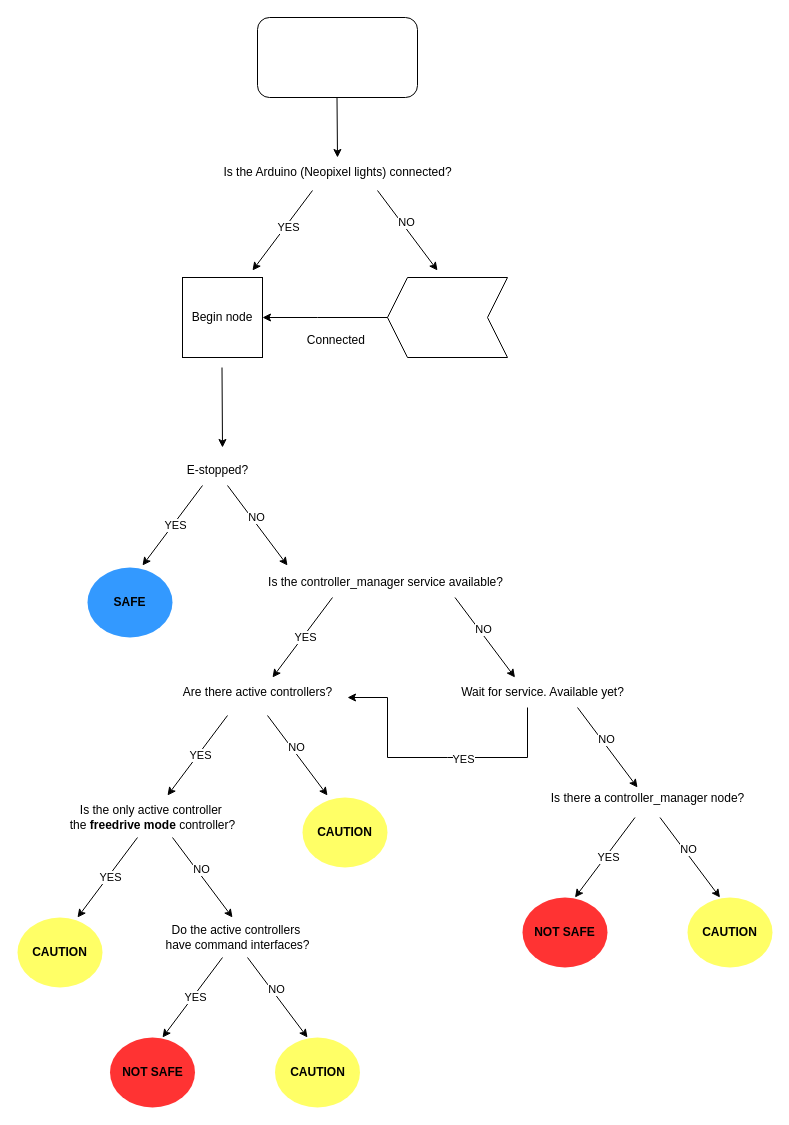
The diagram is 789 pixels wide and 1125 high, and some of its shapes have lost their labels. Each missing label, with the centre of its shape:
Keep trying to reconnect: point (447, 317)
Program starts: point (337, 57)
